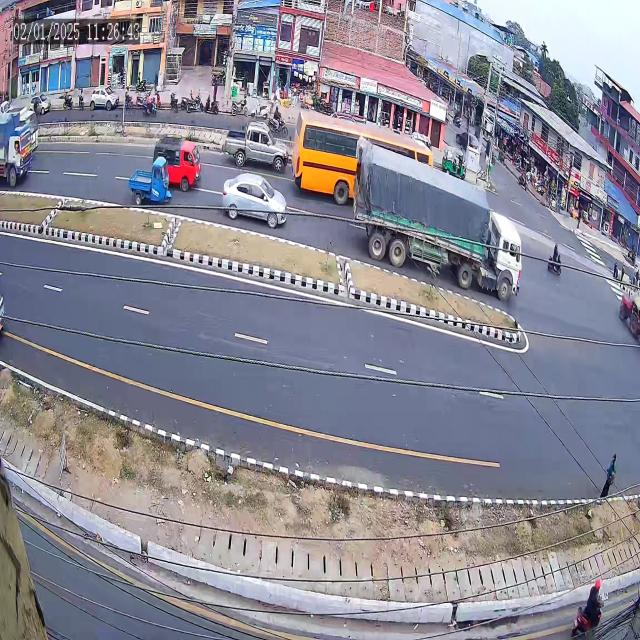car: (215, 167, 290, 239)
truck: (345, 136, 536, 321)
van: (150, 130, 207, 196)
